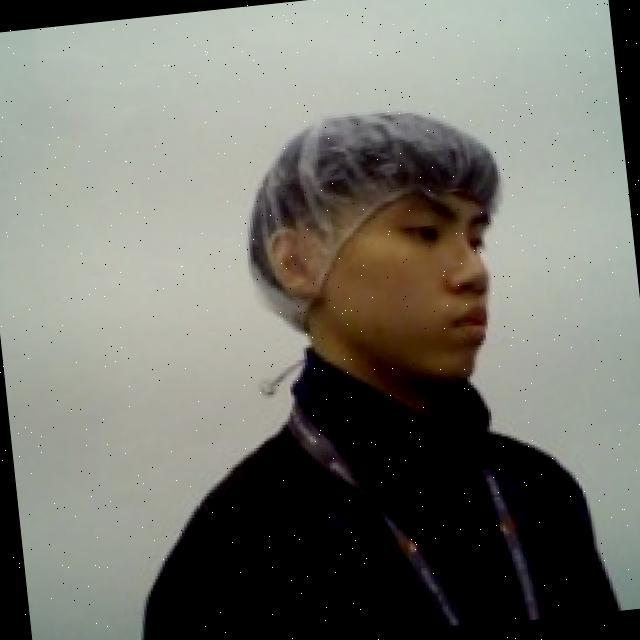gloves: (227, 83, 522, 343)
no_hairnet: (264, 204, 506, 416)
